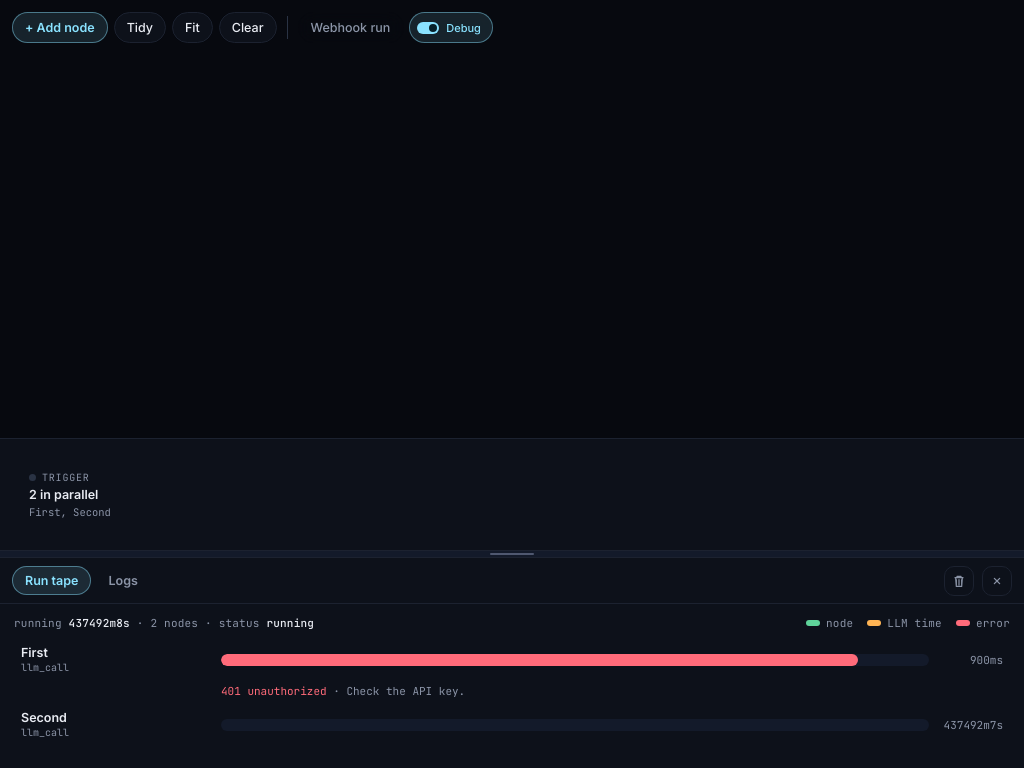
Test: WorkflowCanvasArea › shows error remediation and streaming output in expanded log rows
The image size is (1024, 768).
Click the tab "Logs": (123, 580) [96,566,151,595]
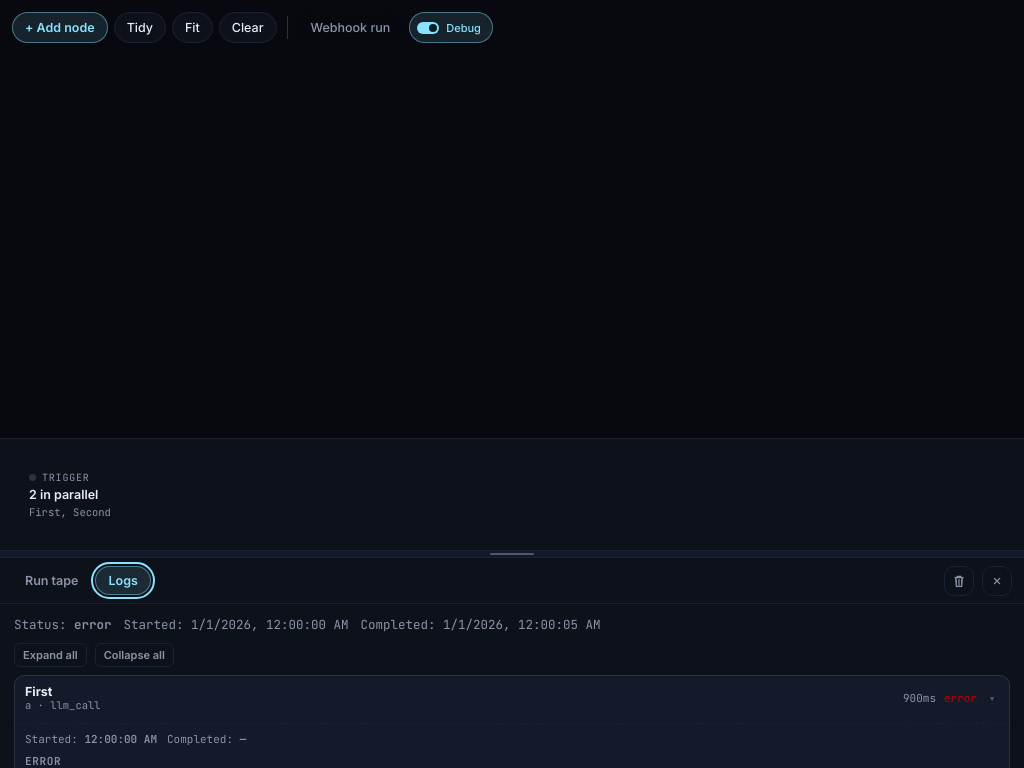
Click the button "Expand all": (50, 655) [14,643,87,667]
(page scrolled)
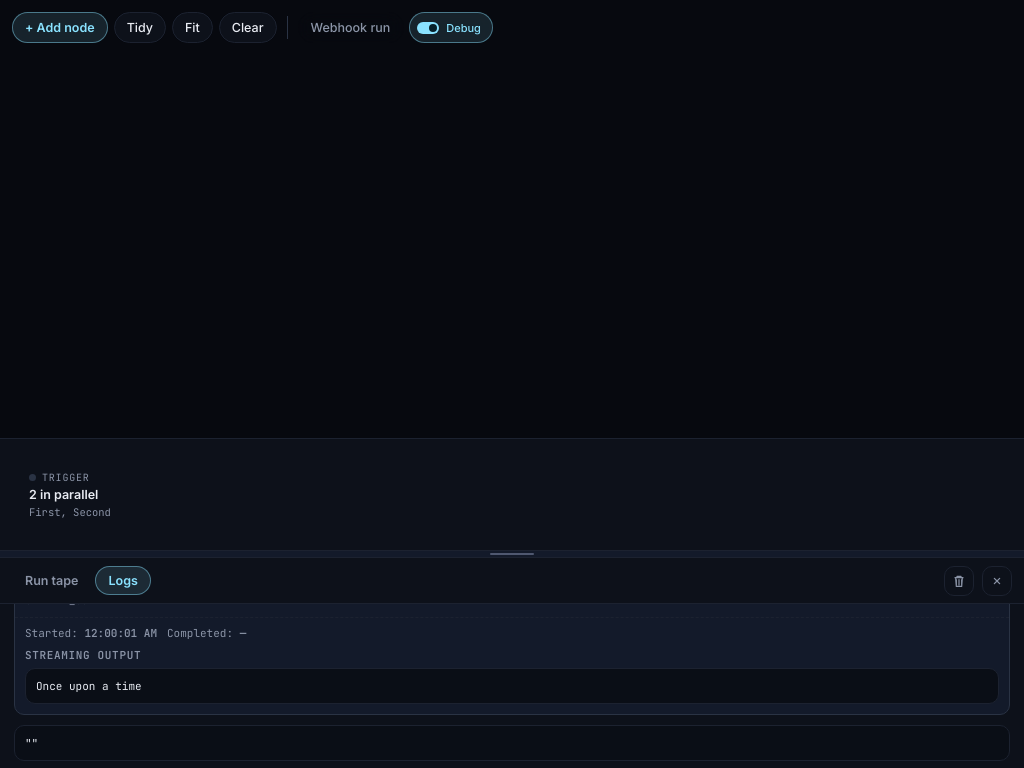
Now the heading "Streaming output" is shown, box [25,648,141,662]
Now the text "Once upon a time" is shown, box [25,668,999,704]
